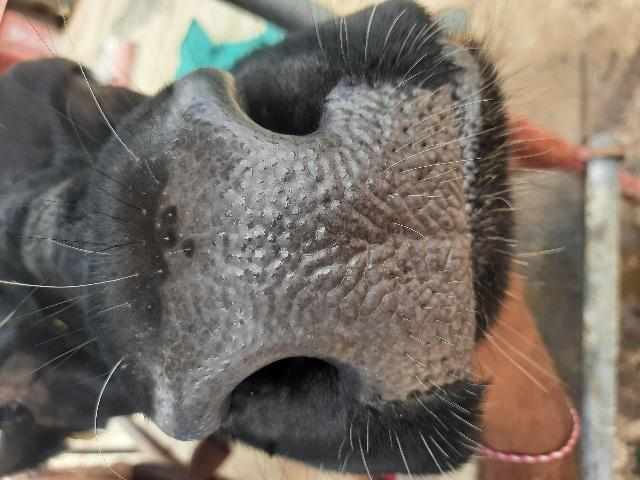Muzzle: (188, 150, 460, 350)
